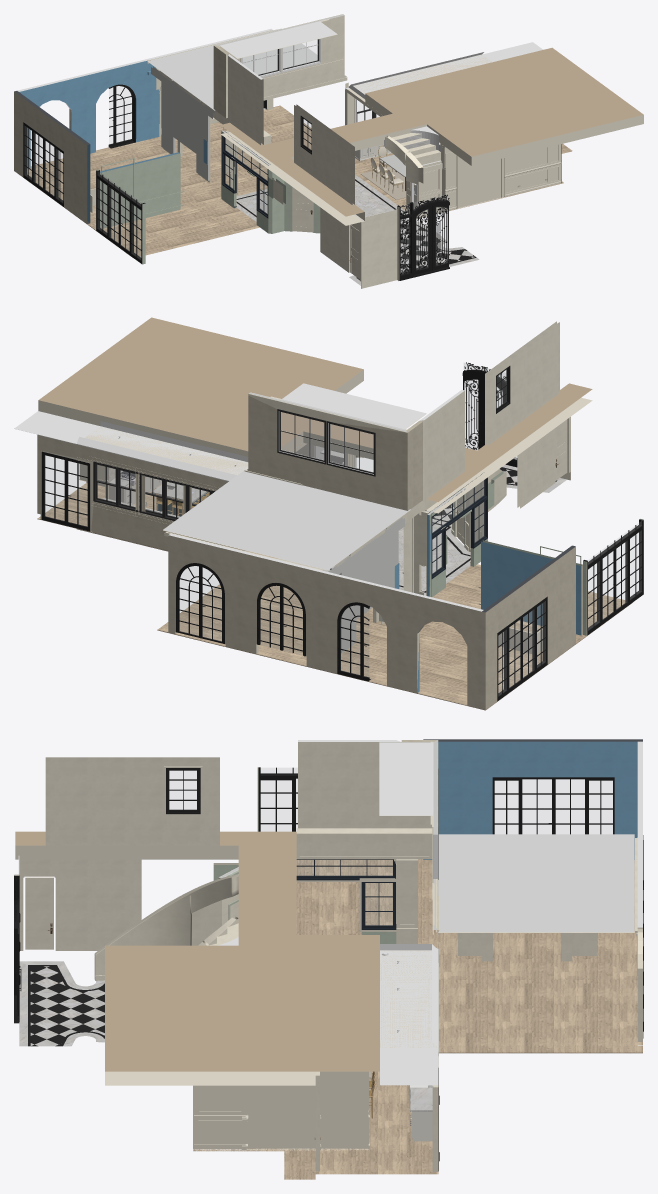
Rendered from kitchen-209b80e05c6a.glb.
3 renders of one model, top to bottom at view 1: azimuth 30°, elevation 25°; view 2: azimuth 150°, elevation 25°; view 3: azimuth 270°, elevation 25°, orthographic. The views are drawn at different scales.
Visible parts, largest first — view 1: kitchen-look-2575515a05775d9e, kitchen-look-3b0077416469e01b, kitchen-look-969b861f9850351e, kitchen-19647d6da46c2b80, kitchen-look-039192b0560cfac3, kitchen-look-b19b106fc304963c, kitchen-look-4a969f5cc1ae3dfe, kitchen-look-746250f96522f643, kitchen-look-55ff1dfd7b659ec1, kitchen-look-245f595ae2832e16, kitchen-look-d5a4a1b5d3594c04, kitchen-look-7f59123d155b94ce (+37 smaller); view 2: kitchen-look-2575515a05775d9e, kitchen-look-969b861f9850351e, kitchen-look-3b0077416469e01b, kitchen-look-4a969f5cc1ae3dfe, kitchen-look-245f595ae2832e16, kitchen-look-039192b0560cfac3, kitchen-look-746250f96522f643, kitchen-bfb9fa537cd11d1d, kitchen-49bdd6945a2d0056, kitchen-look-7f59123d155b94ce, kitchen-look-b19b106fc304963c, kitchen-look-55ff1dfd7b659ec1 (+40 smaller); view 3: kitchen-look-2575515a05775d9e, kitchen-look-3b0077416469e01b, kitchen-look-4a969f5cc1ae3dfe, kitchen-look-746250f96522f643, kitchen-look-039192b0560cfac3, kitchen-look-85f0fd939e0fcc78, kitchen-look-7f59123d155b94ce, kitchen-9a0e9ee9b2a451d7, kitchen-look-e388ad8855329420, kitchen-look-daececc498878d00, kitchen-5b6bbac285e58726, kitchen-look-9d91b47435c6fb33 (+28 smaller).
Part boxes in pixels (left/top/right/bottom): kitchen-look-2575515a05775d9e: left=221, top=47, right=643, bottom=225; kitchen-look-3b0077416469e01b: left=14, top=105, right=572, bottom=257; kitchen-look-969b861f9850351e: left=17, top=28, right=273, bottom=168; kitchen-19647d6da46c2b80: left=444, top=144, right=560, bottom=208; kitchen-look-039192b0560cfac3: left=14, top=91, right=90, bottom=223; kitchen-look-b19b106fc304963c: left=100, top=152, right=180, bottom=228; kitchen-look-4a969f5cc1ae3dfe: left=147, top=28, right=346, bottom=110; kitchen-look-746250f96522f643: left=294, top=104, right=354, bottom=205; kitchen-look-55ff1dfd7b659ec1: left=151, top=67, right=214, bottom=180; kitchen-look-245f595ae2832e16: left=213, top=14, right=344, bottom=108; kitchen-look-d5a4a1b5d3594c04: left=361, top=209, right=397, bottom=288; kitchen-look-7f59123d155b94ce: left=228, top=54, right=263, bottom=144; kitchen-look-2575515a05775d9e: left=38, top=317, right=592, bottom=513; kitchen-look-969b861f9850351e: left=168, top=533, right=483, bottom=708; kitchen-look-3b0077416469e01b: left=37, top=479, right=632, bottom=710; kitchen-look-4a969f5cc1ae3dfe: left=163, top=471, right=410, bottom=570; kitchen-look-245f595ae2832e16: left=248, top=392, right=407, bottom=510; kitchen-look-039192b0560cfac3: left=481, top=545, right=575, bottom=709; kitchen-look-746250f96522f643: left=485, top=321, right=559, bottom=445; kitchen-bfb9fa537cd11d1d: left=76, top=444, right=246, bottom=551; kitchen-49bdd6945a2d0056: left=76, top=421, right=248, bottom=480; kitchen-look-7f59123d155b94ce: left=419, top=390, right=464, bottom=511; kitchen-look-b19b106fc304963c: left=481, top=540, right=582, bottom=635; kitchen-look-55ff1dfd7b659ec1: left=328, top=517, right=404, bottom=653; kitchen-look-2575515a05775d9e: left=15, top=831, right=379, bottom=1085; kitchen-look-3b0077416469e01b: left=284, top=859, right=642, bottom=1179; kitchen-look-4a969f5cc1ae3dfe: left=438, top=834, right=634, bottom=932; kitchen-look-746250f96522f643: left=45, top=757, right=219, bottom=845; kitchen-look-039192b0560cfac3: left=423, top=739, right=642, bottom=859; kitchen-look-85f0fd939e0fcc78: left=19, top=859, right=141, bottom=950; kitchen-look-7f59123d155b94ce: left=298, top=740, right=401, bottom=828; kitchen-9a0e9ee9b2a451d7: left=380, top=950, right=438, bottom=1047; kitchen-look-e388ad8855329420: left=30, top=966, right=104, bottom=1046; kitchen-look-daececc498878d00: left=296, top=828, right=432, bottom=859; kitchen-5b6bbac285e58726: left=247, top=1085, right=315, bottom=1150; kitchen-look-9d91b47435c6fb33: left=379, top=742, right=432, bottom=815.
Bounding box in the file's own units: 20.84 × 6.36 × 16.8.
Materials: 71 (15 with a texture image).
